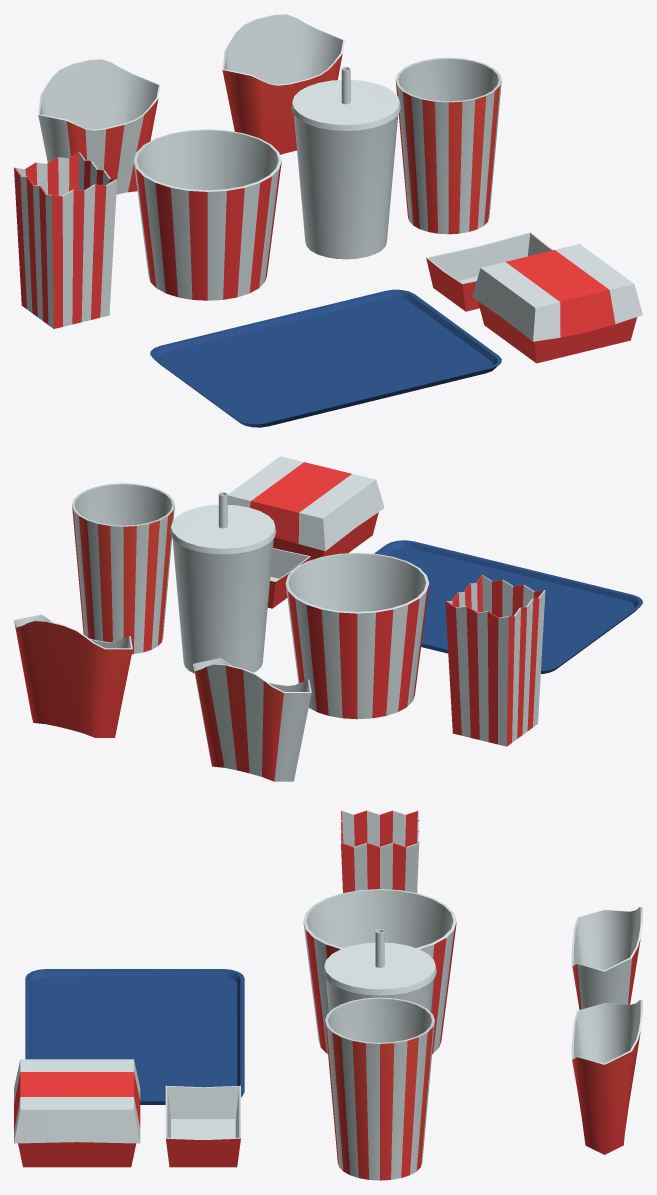
File: fastfood.fbx
3 renders of one model, top to bottom at view 1: azimuth 30°, elevation 25°; view 2: azimuth 150°, elevation 25°; view 3: azimuth 270°, elevation 25°, orthographic. The views are drawn at different scales.
Parts seen in each view (by area): view 1: fastfood_Tray, fastfood_Bucket, fastfood_Cup_2, fastfood_Box_Popcorn, fastfood_Cup_1, fastfood_Box_Burger_Top, fastfood_Box_Fires_1, fastfood_Box_Fires_2, fastfood_Cup_Lid, fastfood_Box, fastfood_Box_Burger_Bottom; view 2: fastfood_Bucket, fastfood_Cup_2, fastfood_Box_Popcorn, fastfood_Tray, fastfood_Box_Fires_1, fastfood_Box_Fires_2, fastfood_Cup_1, fastfood_Box_Burger_Top, fastfood_Cup_Lid, fastfood_Box_Burger_Bottom, fastfood_Box; view 3: fastfood_Tray, fastfood_Cup_2, fastfood_Bucket, fastfood_Box_Burger_Top, fastfood_Box_Fires_2, fastfood_Box_Popcorn, fastfood_Box, fastfood_Box_Fires_1, fastfood_Cup_Lid, fastfood_Box_Burger_Bottom, fastfood_Cup_1.
Part boxes in pixels (x1,y1,x2,y2): fastfood_Tray: [150, 289, 501, 427]; fastfood_Bucket: [133, 129, 281, 300]; fastfood_Cup_2: [395, 57, 501, 234]; fastfood_Box_Popcorn: [14, 152, 117, 328]; fastfood_Cup_1: [294, 115, 398, 259]; fastfood_Box_Burger_Top: [472, 244, 642, 341]; fastfood_Box_Fires_1: [38, 59, 160, 194]; fastfood_Box_Fires_2: [222, 14, 344, 154]; fastfood_Cup_Lid: [291, 80, 400, 130]; fastfood_Box: [426, 232, 553, 311]; fastfood_Box_Burger_Bottom: [478, 301, 637, 363]; fastfood_Bucket: [285, 553, 429, 719]; fastfood_Cup_2: [72, 483, 174, 654]; fastfood_Box_Popcorn: [445, 575, 545, 746]; fastfood_Tray: [374, 540, 642, 673]; fastfood_Box_Fires_1: [193, 658, 311, 781]; fastfood_Box_Fires_2: [14, 614, 132, 737]; fastfood_Cup_1: [172, 539, 273, 673]; fastfood_Box_Burger_Top: [227, 456, 384, 551]; fastfood_Cup_Lid: [170, 505, 276, 554]; fastfood_Box_Burger_Bottom: [273, 512, 378, 560]; fastfood_Box: [267, 548, 310, 608]; fastfood_Tray: [25, 969, 244, 1104]; fastfood_Cup_2: [325, 997, 434, 1180]; fastfood_Bucket: [303, 889, 456, 1053]; fastfood_Box_Burger_Top: [14, 1059, 140, 1143]; fastfood_Box_Fires_2: [571, 1000, 642, 1154]; fastfood_Box_Popcorn: [341, 810, 419, 892]; fastfood_Box: [165, 1085, 240, 1167]; fastfood_Box_Fires_1: [571, 907, 642, 1009]; fastfood_Cup_Lid: [323, 942, 436, 995]; fastfood_Box_Burger_Bottom: [18, 1142, 136, 1167]; fastfood_Cup_1: [326, 979, 433, 1011].
Size of the model in its own units: 3.53 by 4.01 by 1.27.
2 materials, 1 textured.
